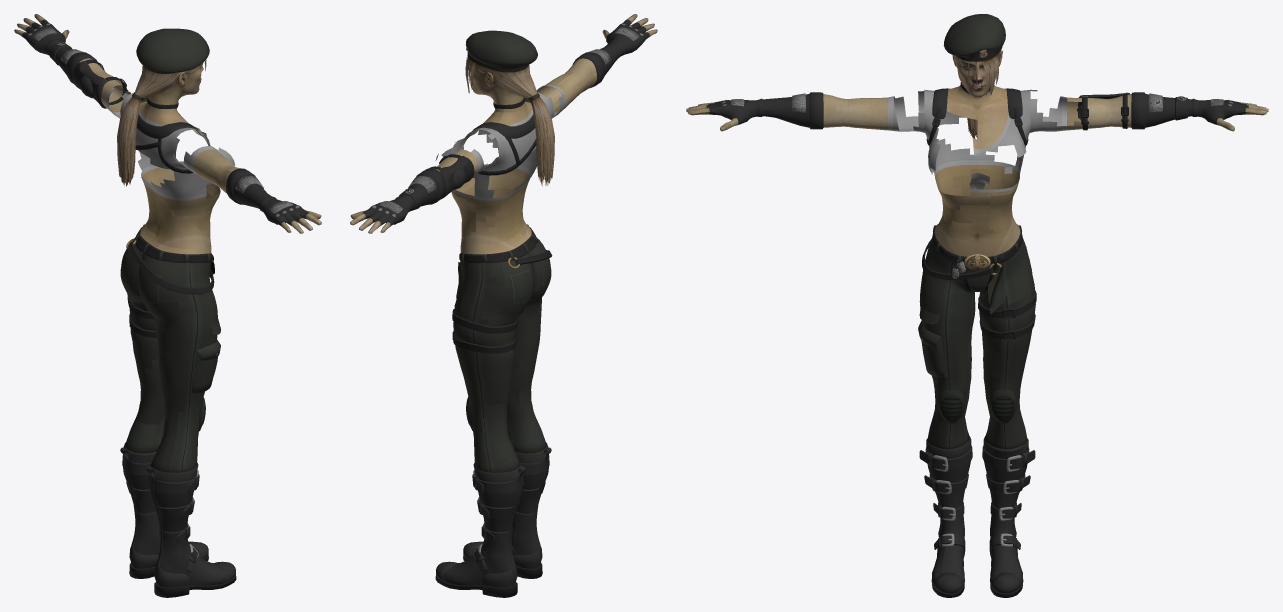
Rendered from Sonya.obj.
3 views of the same model, side by side, from view 1: azimuth 30°, elevation 25°; view 2: azimuth 150°, elevation 25°; view 3: azimuth 270°, elevation 25° (orthographic).
Parts seen in each view (by area): view 1: Sonya; view 2: Sonya; view 3: Sonya.
Boxes of the visible parts, box(x1,y1,x2,y2) form: Sonya: box(14, 14, 321, 597); Sonya: box(350, 14, 657, 597); Sonya: box(686, 14, 1268, 597).
Bounding box in the file's own units: 1.5 × 7.62 × 7.26.
